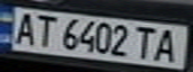0: (93, 20, 115, 56)
2: (109, 21, 133, 59)
4: (75, 18, 96, 54)
6: (57, 16, 81, 52)
A: (151, 26, 184, 63), (9, 9, 39, 46)
T: (130, 24, 160, 61), (30, 12, 60, 47)
